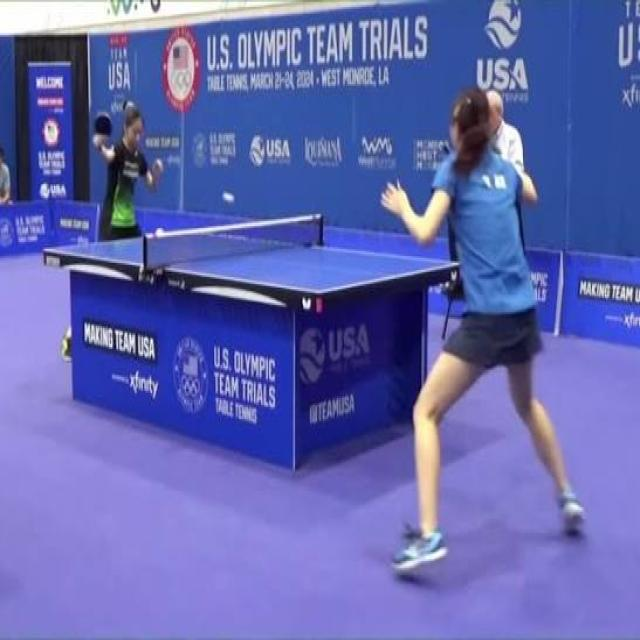TT Net: (140, 211, 324, 276)
TT Racket: (91, 109, 116, 142)
TT Table: (47, 229, 456, 289)
